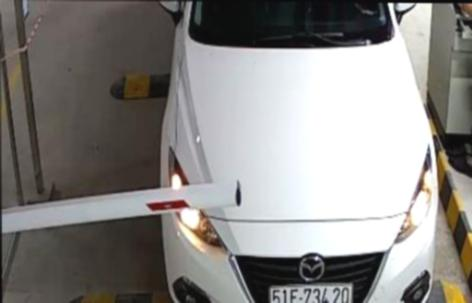License_Plate: (264, 271, 358, 303)
